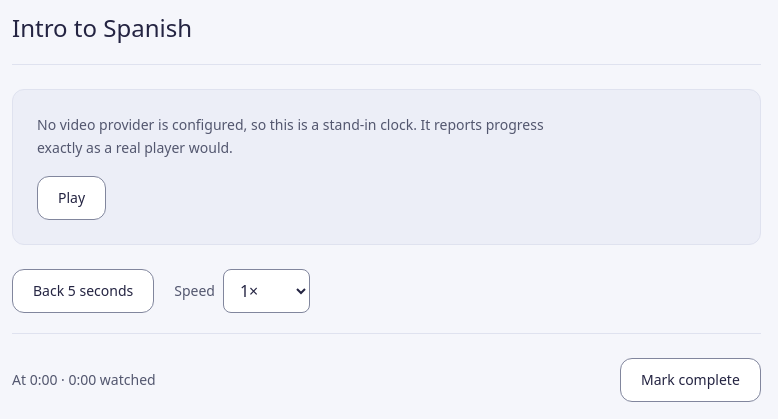
Scenario: the comfort controls › advances the stand-in's own clock at the chosen speed
Expected: the heading "Intro to Spanish" is shown, left=12, top=11, right=192, bottom=44
Select "0.5×" in the dropdown labelled "Speed": x=266, y=290 left=223, top=268, right=310, bottom=312
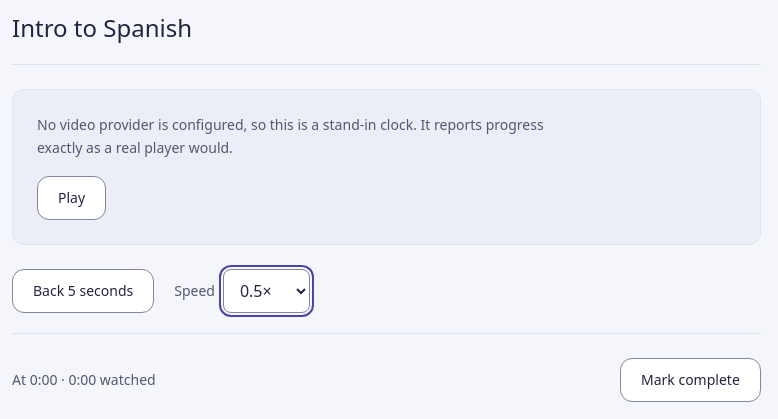
Click the button "Play": x=72, y=198 left=37, top=176, right=106, bottom=220
Wait 10000 ms
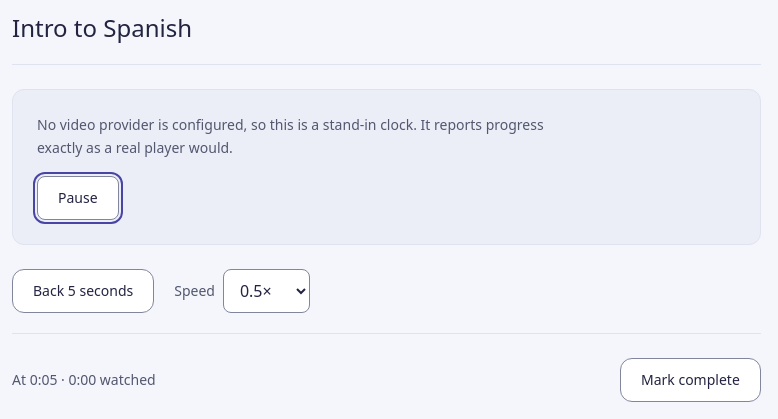
Result: the text "At 0:05 · 0:00 watched" is shown at left=12, top=370, right=156, bottom=390
